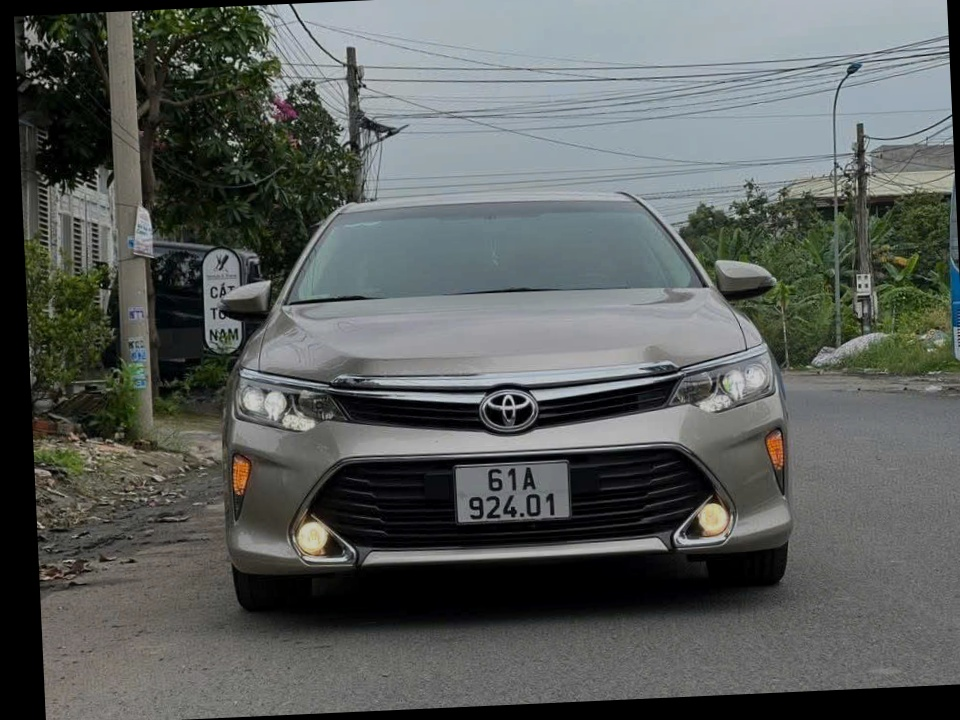Bien-so: (455, 488, 583, 551)
